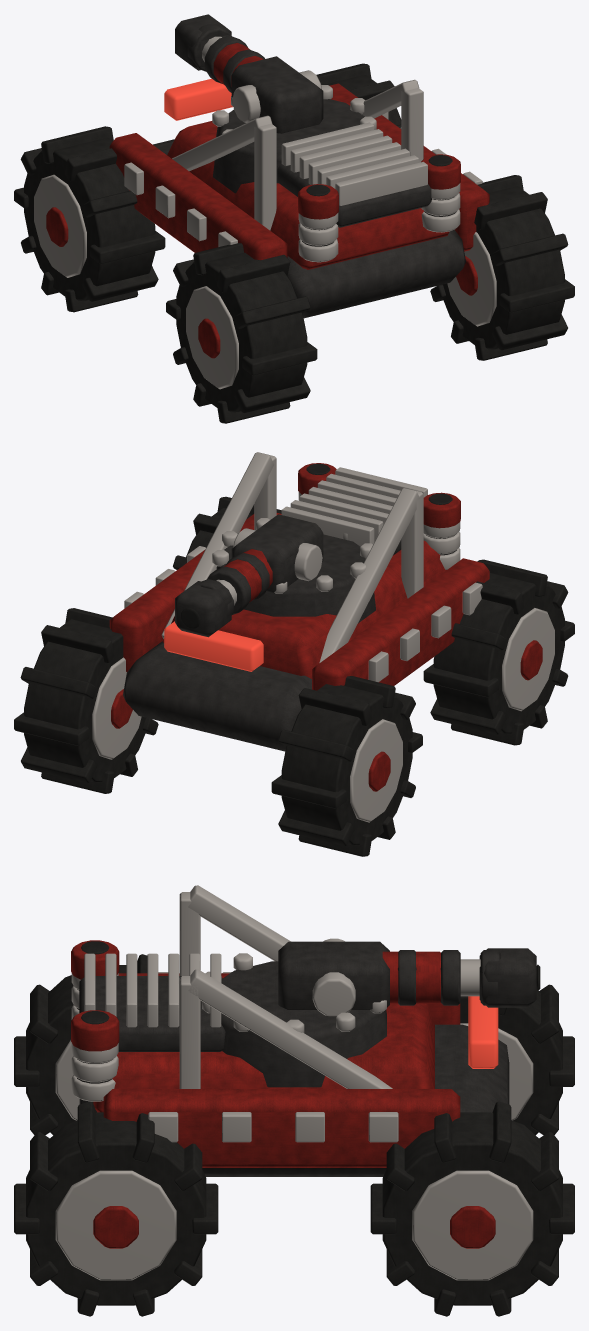
The model's file is kharn_rodeur.gltf.
3 renders of one model, top to bottom at view 1: azimuth 30°, elevation 25°; view 2: azimuth 150°, elevation 25°; view 3: azimuth 270°, elevation 25°, orthographic. The views are drawn at different scales.
Parts seen in each view (by area): view 1: Root.021_Geometry, Wheel_-0.7018000000000001_-0.71808_Geometry, Wheel_-0.7018000000000001_0.71808_Geometry, Wheel_0.7018000000000001_-0.71808_Geometry, GunPitch.009_Geometry, GunRecoil.006_Geometry, Wheel_0.7018000000000001_0.71808_Geometry; view 2: Root.021_Geometry, Wheel_-0.7018000000000001_0.71808_Geometry, Wheel_-0.7018000000000001_-0.71808_Geometry, Wheel_0.7018000000000001_0.71808_Geometry, GunRecoil.006_Geometry, GunPitch.009_Geometry, Wheel_0.7018000000000001_-0.71808_Geometry; view 3: Root.021_Geometry, Wheel_0.7018000000000001_0.71808_Geometry, Wheel_0.7018000000000001_-0.71808_Geometry, Wheel_-0.7018000000000001_0.71808_Geometry, GunRecoil.006_Geometry, GunPitch.009_Geometry, Wheel_-0.7018000000000001_-0.71808_Geometry.
Boxes of the visible parts, x1=… form: Root.021_Geometry: x1=109, y1=78, x2=489, y2=318; Wheel_-0.7018000000000001_-0.71808_Geometry: x1=166, y1=243, x2=317, y2=423; Wheel_-0.7018000000000001_0.71808_Geometry: x1=14, y1=126, x2=165, y2=312; Wheel_0.7018000000000001_-0.71808_Geometry: x1=430, y1=175, x2=574, y2=360; GunPitch.009_Geometry: x1=231, y1=56, x2=323, y2=133; GunRecoil.006_Geometry: x1=175, y1=14, x2=264, y2=92; Wheel_0.7018000000000001_0.71808_Geometry: x1=316, y1=63, x2=401, y2=127; Root.021_Geometry: x1=109, y1=452, x2=489, y2=751; Wheel_-0.7018000000000001_0.71808_Geometry: x1=271, y1=676, x2=422, y2=856; Wheel_-0.7018000000000001_-0.71808_Geometry: x1=423, y1=559, x2=574, y2=745; Wheel_0.7018000000000001_0.71808_Geometry: x1=14, y1=608, x2=158, y2=793; GunRecoil.006_Geometry: x1=175, y1=549, x2=272, y2=637; GunPitch.009_Geometry: x1=231, y1=514, x2=323, y2=594; Wheel_0.7018000000000001_-0.71808_Geometry: x1=173, y1=496, x2=281, y2=569; Root.021_Geometry: x1=71, y1=885, x2=509, y2=1176; Wheel_0.7018000000000001_0.71808_Geometry: x1=370, y1=1101, x2=574, y2=1316; Wheel_0.7018000000000001_-0.71808_Geometry: x1=14, y1=1101, x2=218, y2=1316; Wheel_-0.7018000000000001_0.71808_Geometry: x1=460, y1=984, x2=574, y2=1135; GunRecoil.006_Geometry: x1=382, y1=948, x2=540, y2=1007; GunPitch.009_Geometry: x1=278, y1=938, x2=389, y2=1016; Wheel_-0.7018000000000001_-0.71808_Geometry: x1=14, y1=954, x2=147, y2=1135.
Bounding box in the file's own units: 1.78 × 1.31 × 2.26.
Materials: 5 (3 with a texture image).
